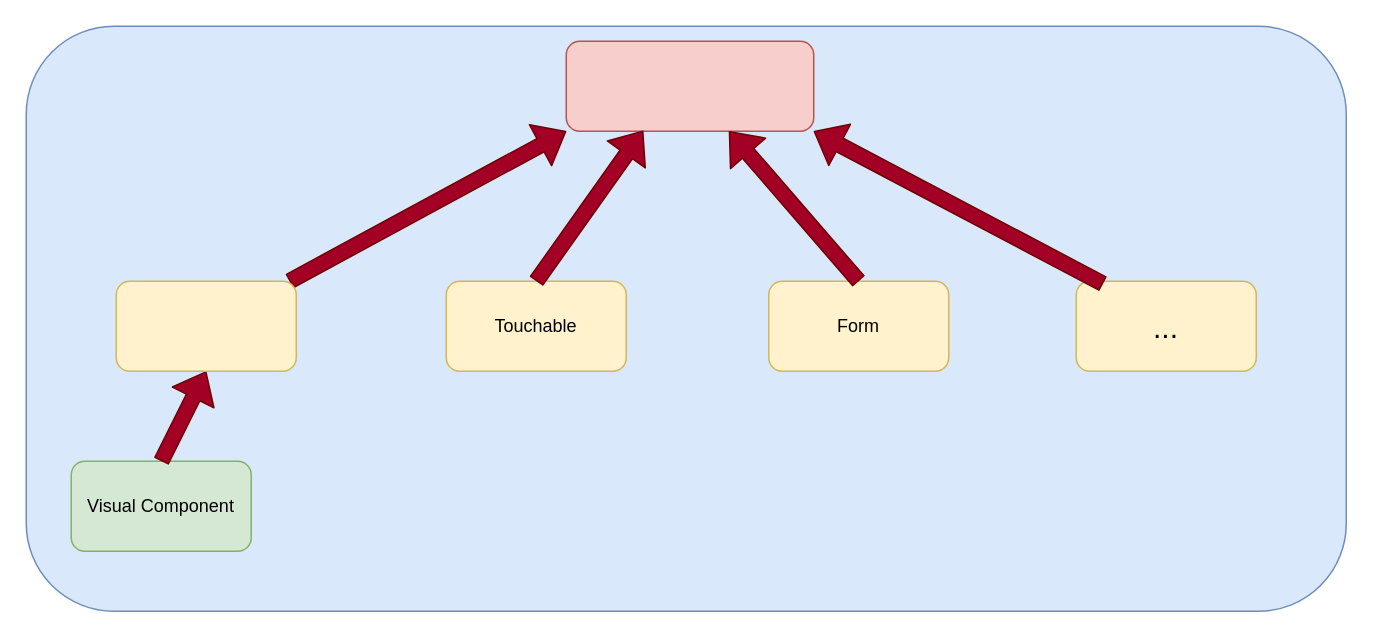
This 1373x638 diagram has some shape labels left out. Each missing label, with the centre of its shape:
"ServerDrivenComponent" goes at pixel 689 85.
"Widget" goes at pixel 205 325.
